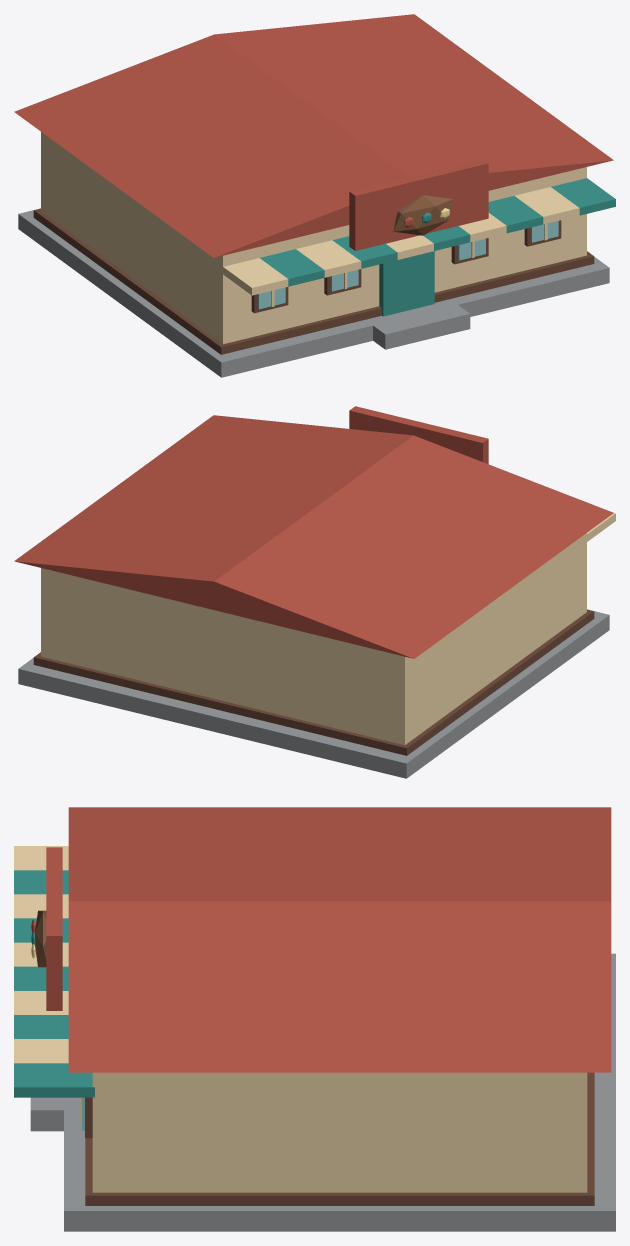
The model's file is studio_art.glb.
3 views of the same model, one above another, from view 1: azimuth 30°, elevation 25°; view 2: azimuth 150°, elevation 25°; view 3: azimuth 270°, elevation 25° (orthographic). The views are drawn at different scales.
Visible parts, largest first — view 1: gable_roof, walls, foundation, signboard, cornice, step, door, awning, palette, awning.002, awning.001, awning.008 (+6 smaller); view 2: gable_roof, walls, foundation, cornice, signboard; view 3: gable_roof, walls, foundation, cornice, signboard, awning.009, awning.008, awning.007, step, awning, awning.006, awning.001 (+5 smaller).
Part boxes in pixels (x1=…): gable_roof: x1=14, y1=14, x2=613, y2=257; walls: x1=41, y1=132, x2=586, y2=344; foundation: x1=18, y1=210, x2=609, y2=377; signboard: x1=349, y1=159, x2=488, y2=250; cornice: x1=33, y1=208, x2=594, y2=354; step: x1=366, y1=299, x2=470, y2=349; door: x1=379, y1=251, x2=434, y2=316; awning: x1=222, y1=258, x2=288, y2=295; palette: x1=393, y1=195, x2=452, y2=235; awning.002: x1=296, y1=240, x2=361, y2=277; awning.001: x1=260, y1=249, x2=324, y2=286; awning.008: x1=514, y1=187, x2=579, y2=224; gable_roof: x1=14, y1=415, x2=613, y2=658; walls: x1=41, y1=533, x2=586, y2=745; foundation: x1=18, y1=611, x2=609, y2=778; cornice: x1=33, y1=609, x2=594, y2=755; signboard: x1=349, y1=406, x2=488, y2=464; gable_roof: x1=68, y1=807, x2=611, y2=1072; walls: x1=92, y1=1072, x2=587, y2=1192; foundation: x1=64, y1=953, x2=615, y2=1231; cornice: x1=85, y1=1072, x2=594, y2=1205; signboard: x1=46, y1=847, x2=62, y2=1010; awning.009: x1=14, y1=1063, x2=94, y2=1097; awning.008: x1=14, y1=1039, x2=68, y2=1063; awning.007: x1=14, y1=1015, x2=68, y2=1038; step: x1=30, y1=1097, x2=78, y2=1131; awning: x1=14, y1=846, x2=68, y2=870; awning.006: x1=14, y1=991, x2=68, y2=1014; awning.001: x1=14, y1=870, x2=68, y2=894.
Size of the model in its own units: 6.6 by 2.45 by 6.33.
